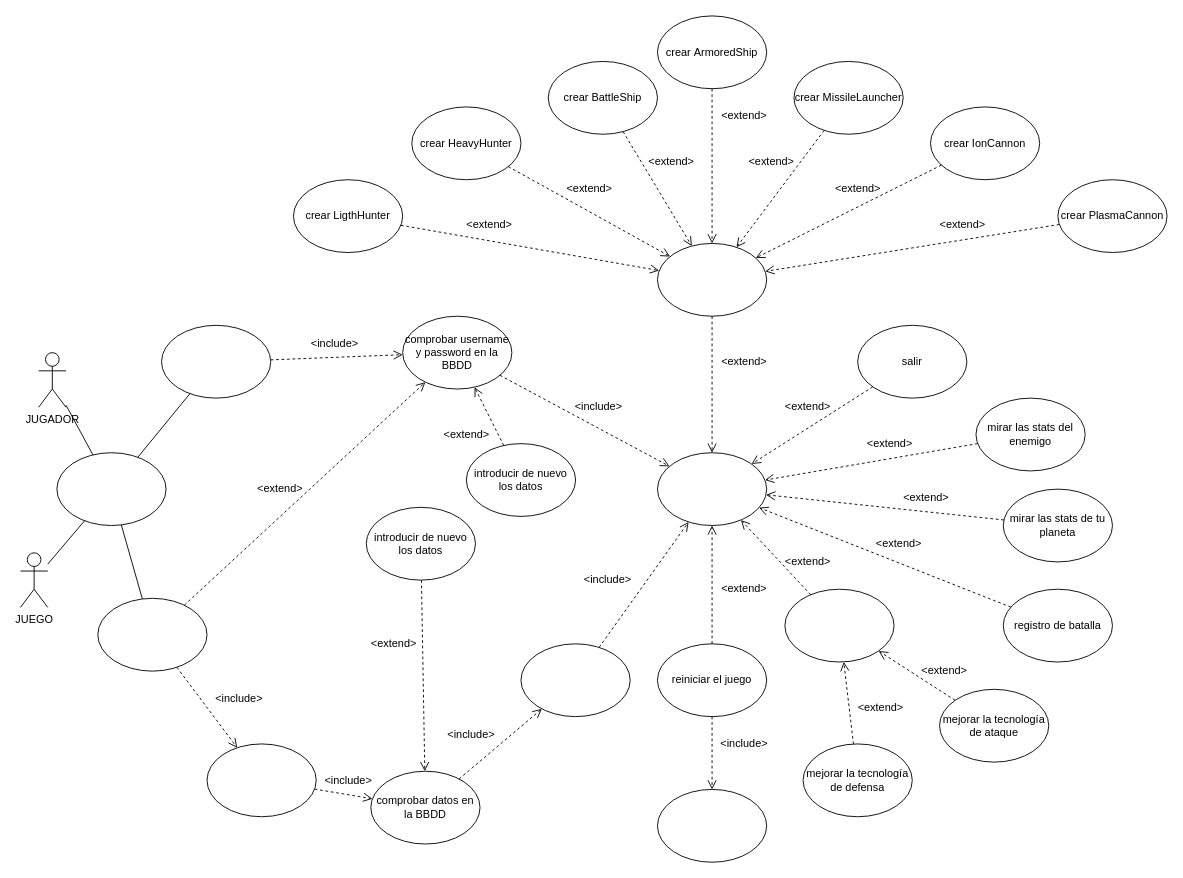
The diagram is 1183 pixels wide and 878 high, and some of its shapes have lost their labels. Each missing label, with the centre of its shape:
acceso al juego: [712,489]
crear tropas: [712,279]
introducir datos: [261,780]
introducir los datos en la base de datos: [575,680]
log-in: [216,361]
mejorar la tecnología del planeta: [839,625]
Menú inicial: [111,489]
register: [152,634]
se ejecuta el procedimiento "INITIALIZE": [712,825]
